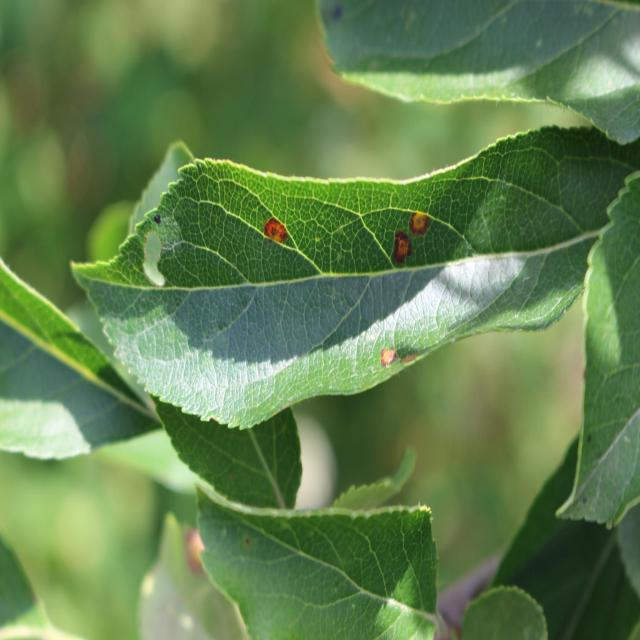Rust: (175, 513, 210, 589), (386, 227, 417, 273), (258, 207, 290, 251), (404, 204, 436, 239), (374, 335, 402, 372), (402, 344, 427, 376)
